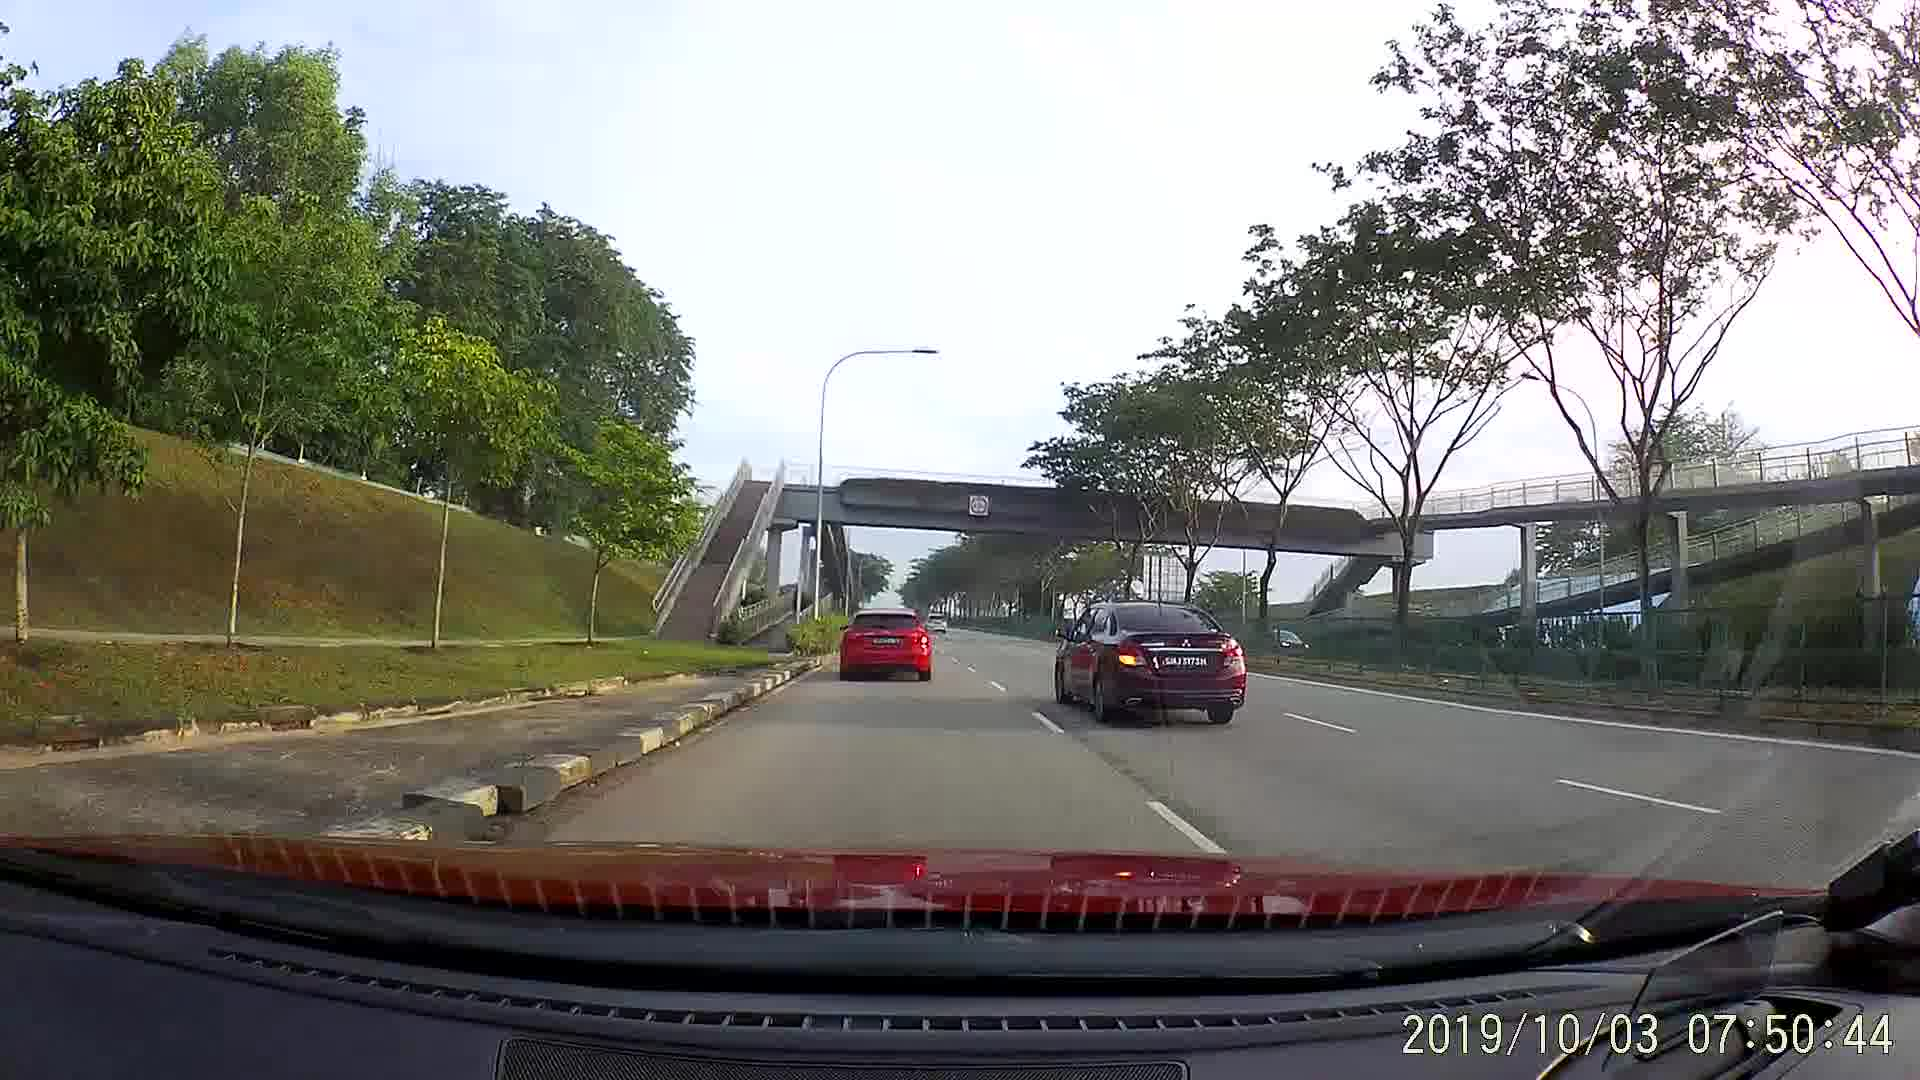car: (1052, 597, 1247, 732), (835, 609, 934, 682), (1258, 625, 1320, 655), (923, 607, 948, 633)
